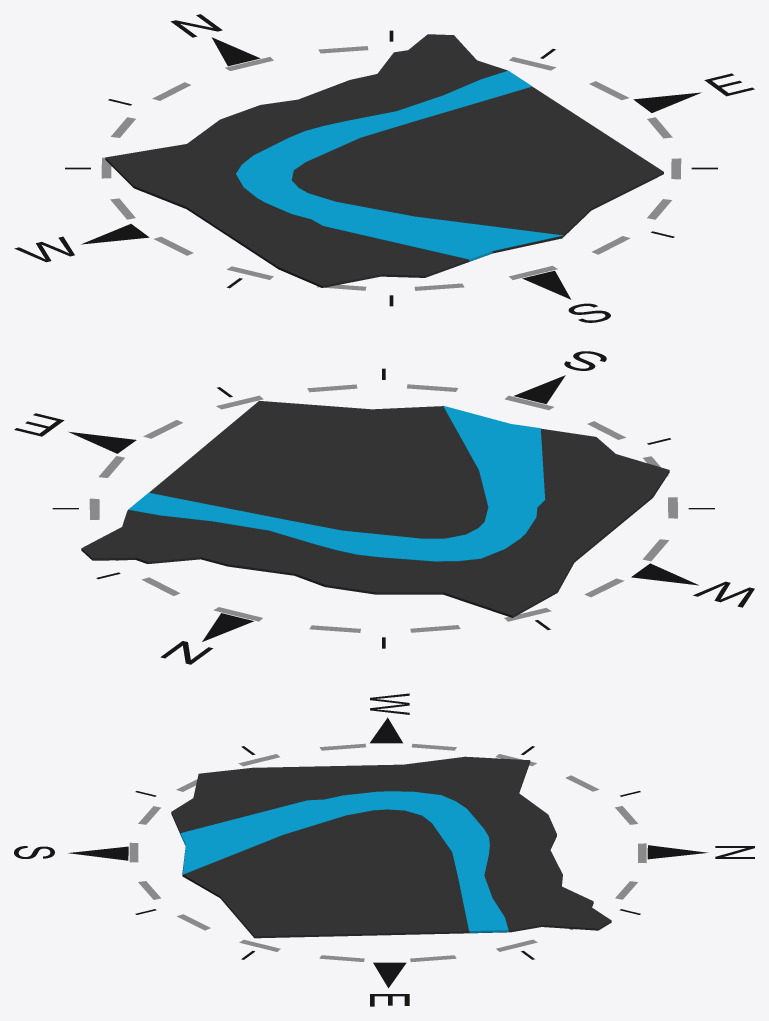
File: Shanghai-08-Floor.FBX
3 renders of one model, top to bottom at view 1: azimuth 30°, elevation 25°; view 2: azimuth 150°, elevation 25°; view 3: azimuth 270°, elevation 25°, orthographic. The views are drawn at different scales.
Visible parts, largest first — view 1: Shanghai-09-Floor, Shanghai-08-River, SHanghai-Black, SHanghai-White; view 2: Shanghai-09-Floor, Shanghai-08-River, SHanghai-Black, SHanghai-White; view 3: Shanghai-09-Floor, Shanghai-08-River, SHanghai-Black, SHanghai-White.
Boxes of the visible parts, x1,y1,x2,y2 form: Shanghai-09-Floor: (105, 34, 663, 287); Shanghai-08-River: (236, 70, 563, 261); SHanghai-Black: (14, 14, 754, 322); SHanghai-White: (101, 46, 681, 290); Shanghai-09-Floor: (81, 401, 669, 617); Shanghai-08-River: (128, 405, 545, 561); SHanghai-Black: (14, 351, 754, 664); SHanghai-White: (89, 384, 677, 632); Shanghai-09-Floor: (171, 756, 611, 938); Shanghai-08-River: (180, 791, 508, 932); SHanghai-Black: (14, 693, 754, 1006); SHanghai-White: (129, 743, 646, 962).
Size of the model in its own units: 655949 by 656087 by 3019.
